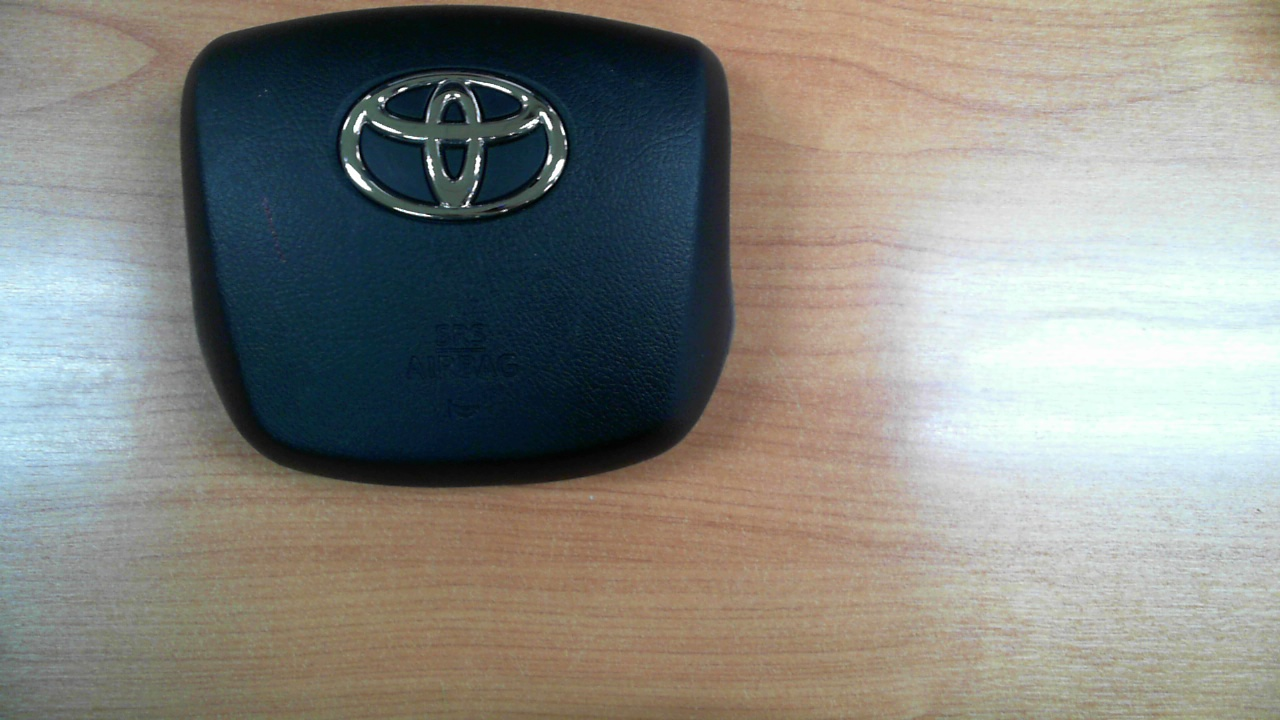Airbag: (184, 8, 736, 485)
Toyota: (339, 70, 568, 220)
